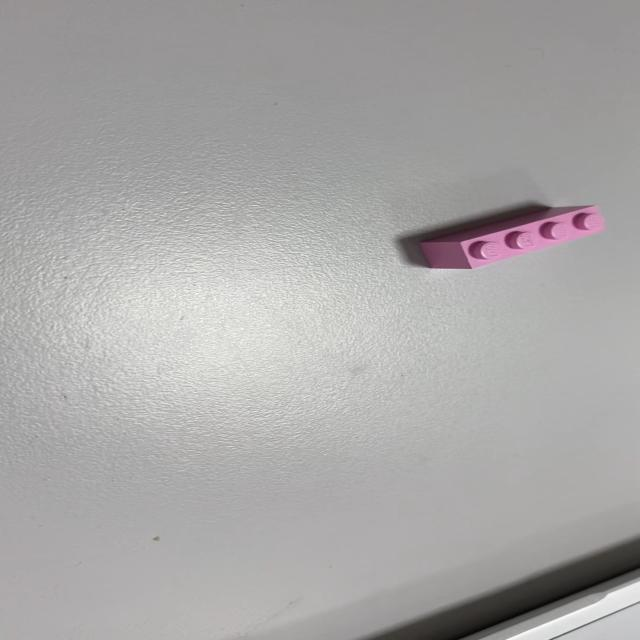C4x1x1: (416, 203, 604, 270)
